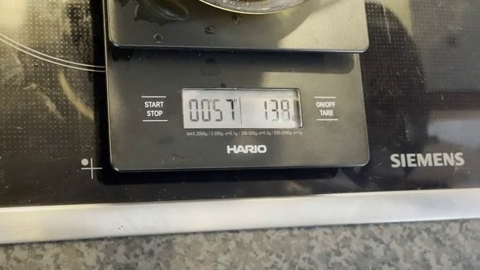display: (181, 88, 300, 128)
